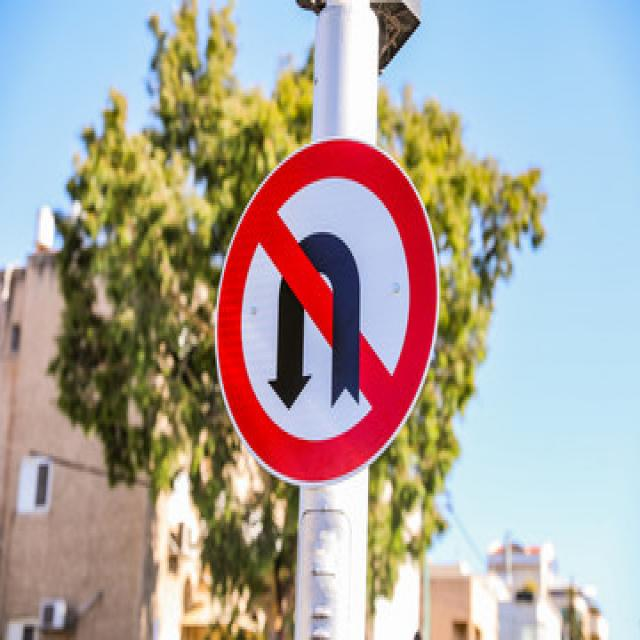no u turn: (212, 134, 435, 484)
